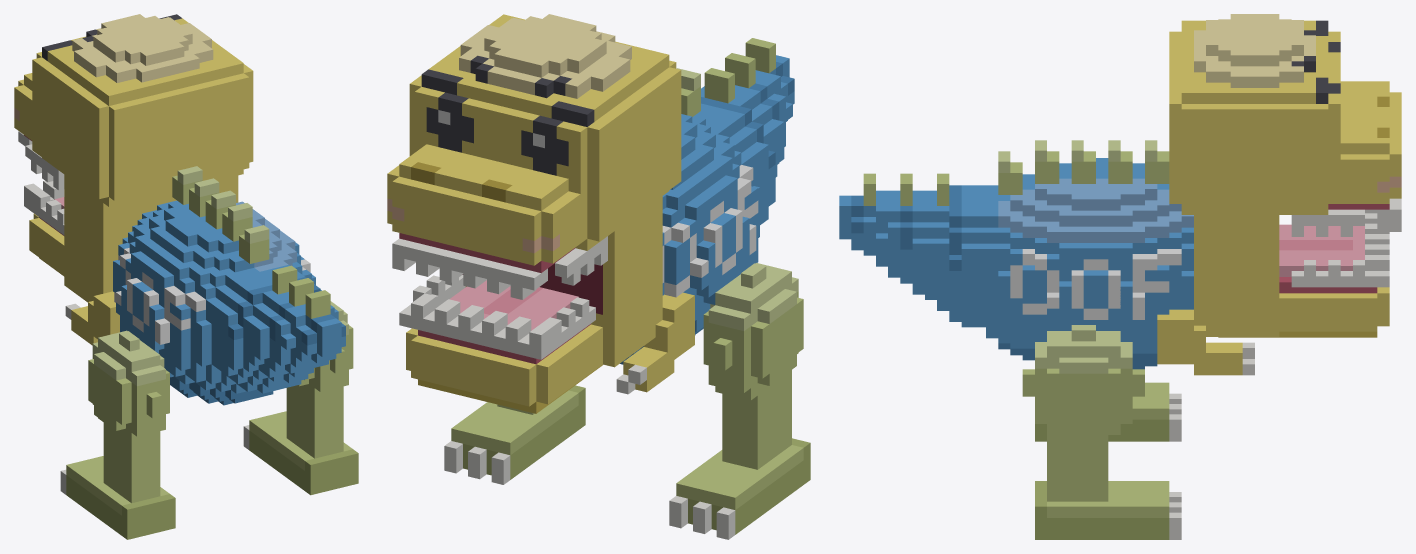
Rendered from OofosauroRex.glb.
The picture shows the model from 3 angles, left to right: view 1: azimuth 30°, elevation 25°; view 2: azimuth 150°, elevation 25°; view 3: azimuth 270°, elevation 25°; orthographic projection. The views are drawn at different scales.
Parts seen in each view (by area): view 1: geometry_0; view 2: geometry_0; view 3: geometry_0.
Part boxes in pixels (x1=…): geometry_0: x1=14, y1=14, x2=358, y2=539; geometry_0: x1=387, y1=14, x2=810, y2=539; geometry_0: x1=839, y1=14, x2=1401, y2=539.
Bounding box in the file's own units: 0.5854 × 0.9756 × 1.12.
